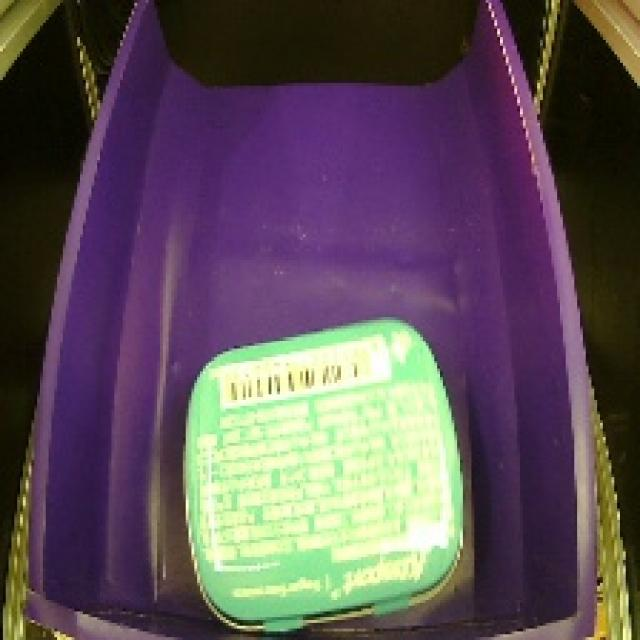metal: (167, 305, 478, 640)
